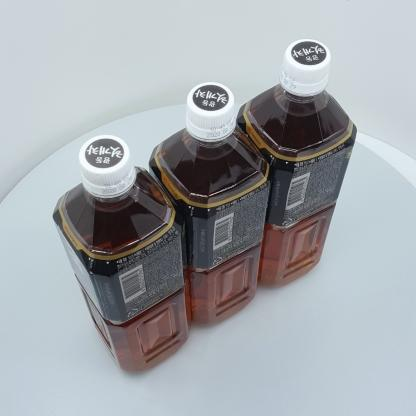----------1L: (52, 134, 189, 374), (233, 38, 357, 288), (148, 82, 273, 326)
